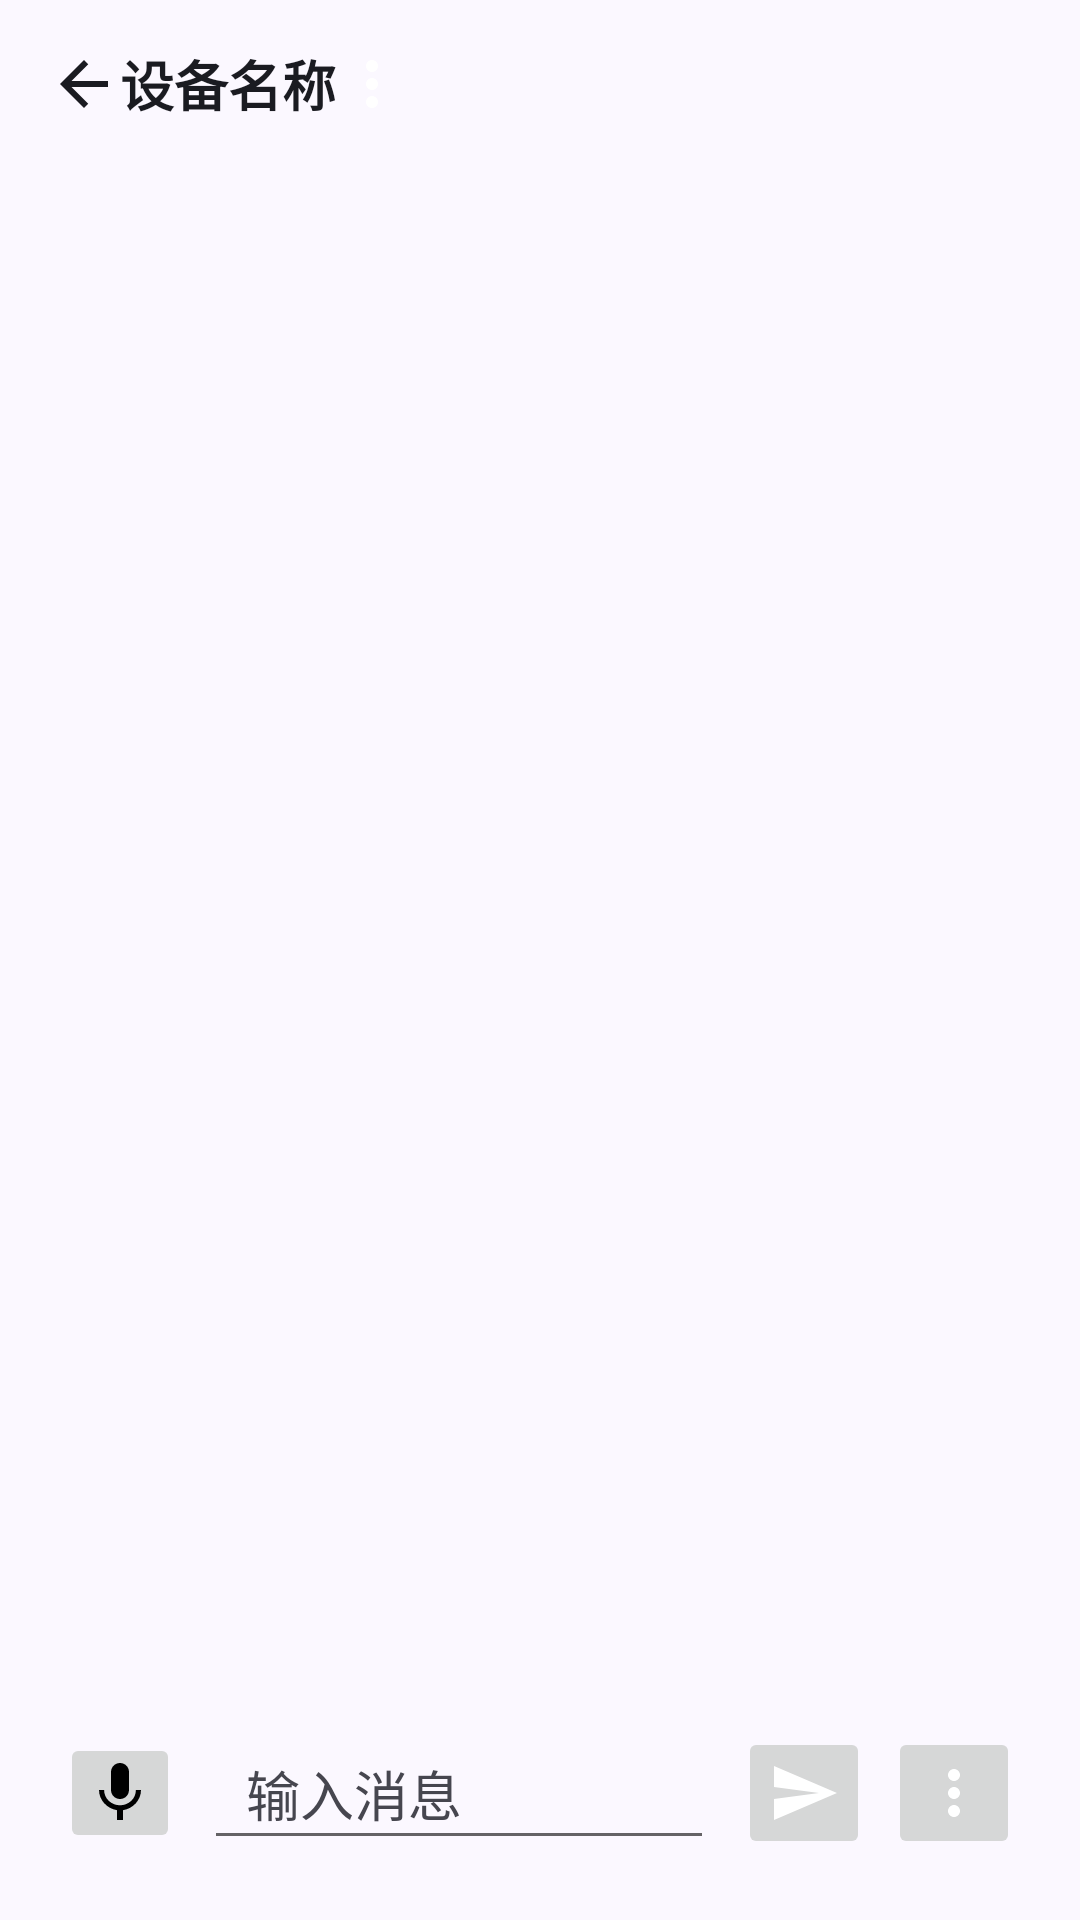

Point at icon controls on the screen. Image size 1080px x 1920px, points as point (x, y).
voice: point (120, 1793)
发送: point (804, 1793)
更多: point (954, 1793)
返回: point (84, 84)
